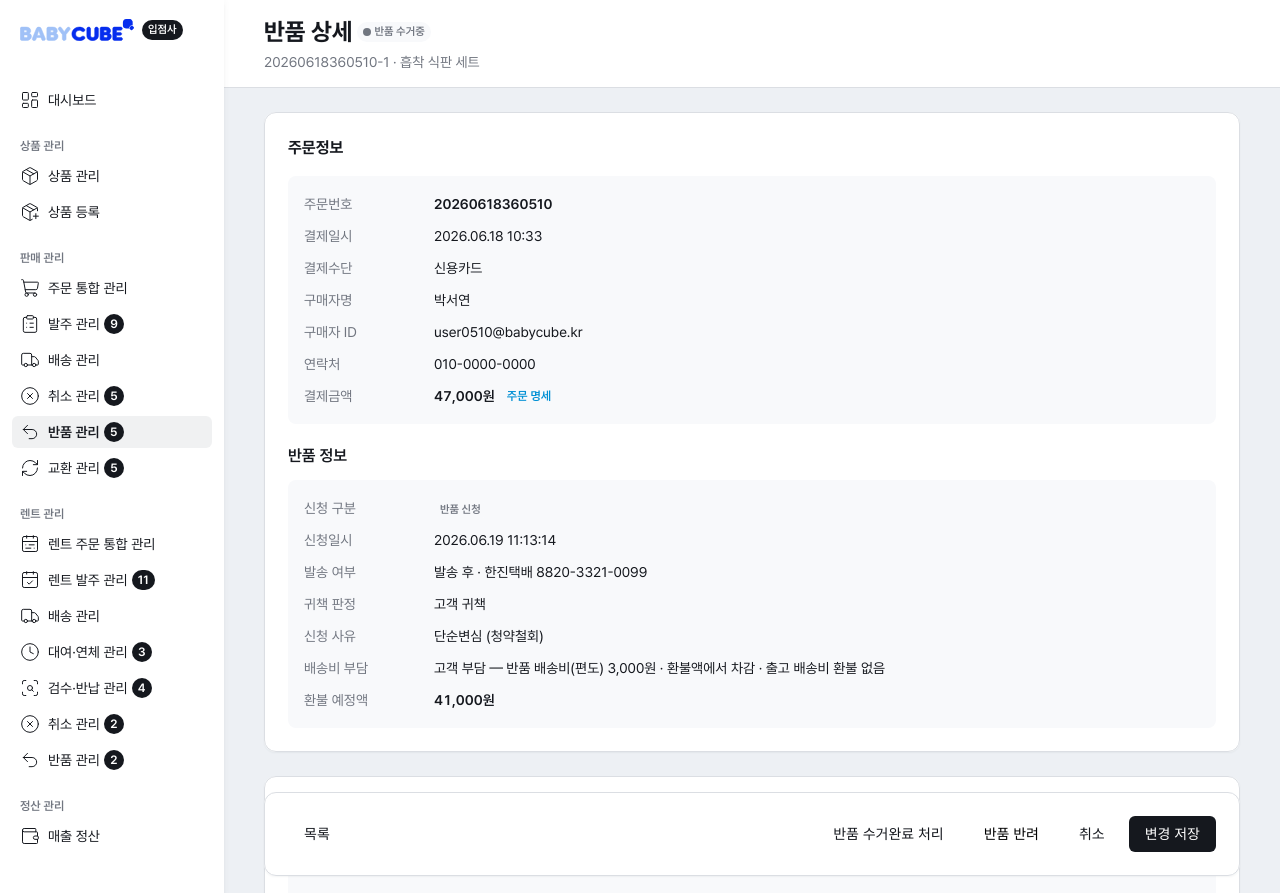
반품 상세 › 반품 수거중 → [반품 수거완료 처리]·[반품 반려](원본 캡처 버튼) · 반려는 사유 창
This screenshot has width=1280, height=893.
Step 1. Click the button "반품 반려" → (1011, 834), box [968,816,1055,852]
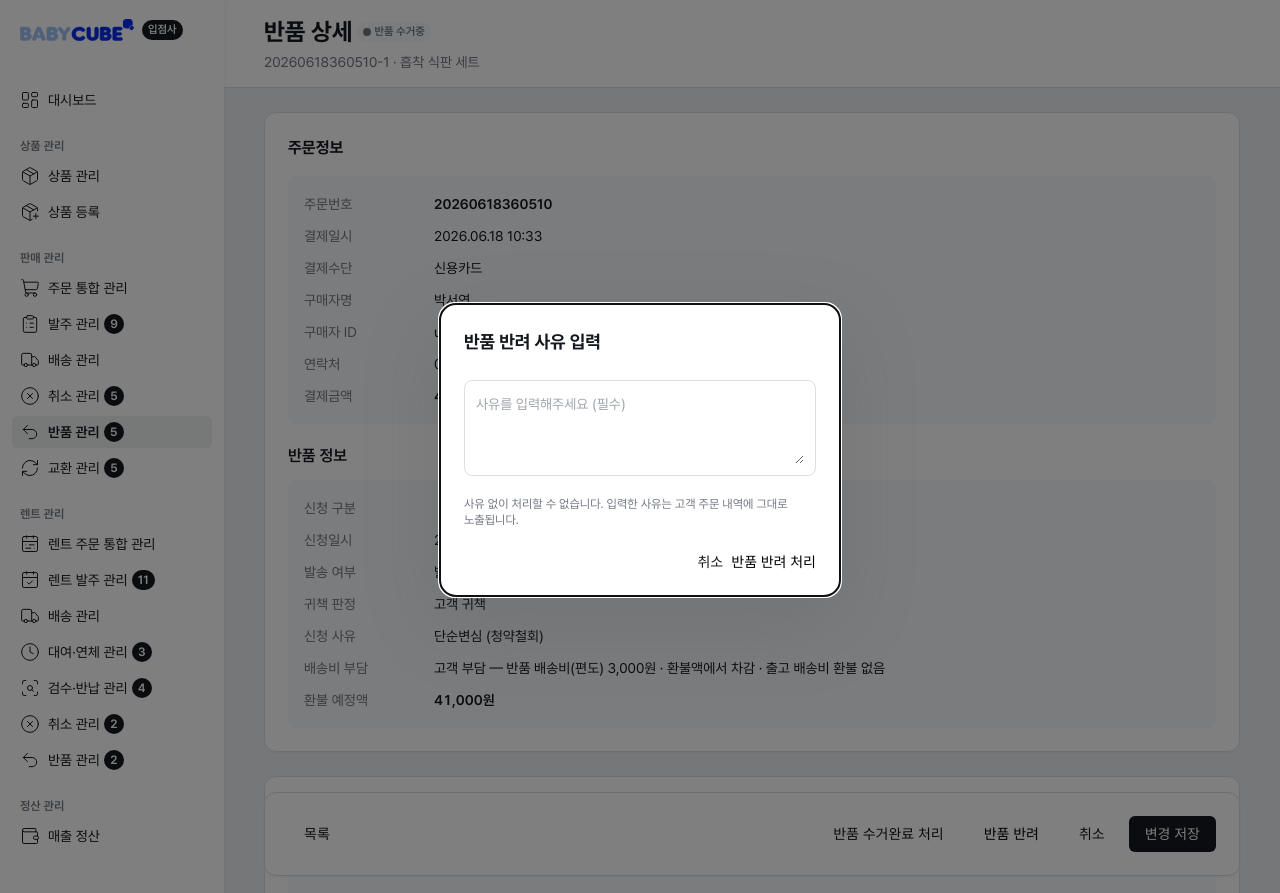
Now the dialog "반품 반려 사유 입력" is shown, box [440,304,840,596]
